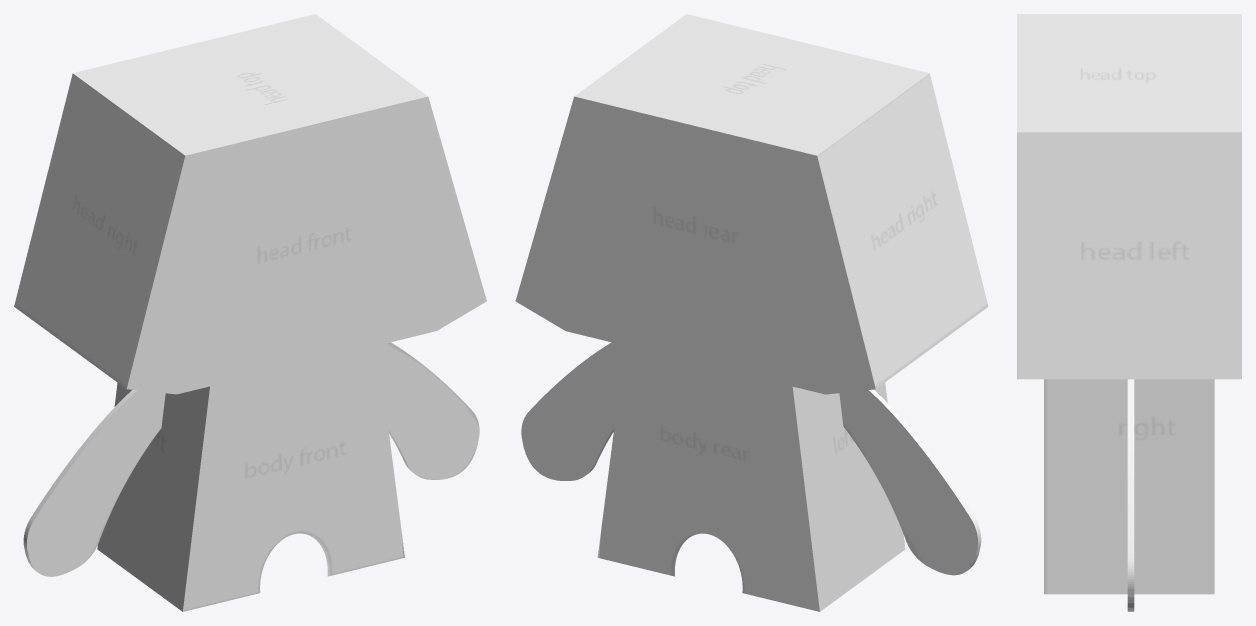
Rendered from Character.glb.
3 views of the same model, side by side, from view 1: azimuth 30°, elevation 25°; view 2: azimuth 150°, elevation 25°; view 3: azimuth 270°, elevation 25° (orthographic).
Visible parts, largest first — view 1: Curve.040, Curve.007, Curve.024, Curve.023; view 2: Curve.040, Curve.007, Curve.024, Curve.023; view 3: Curve.040, Curve.007, Curve.023.
Part boxes in pixels (<box>): Curve.040: <box>14,14,486,394</box>; Curve.007: <box>97,345,404,611</box>; Curve.024: <box>23,390,165,576</box>; Curve.023: <box>377,342,479,479</box>; Curve.040: <box>515,14,988,394</box>; Curve.007: <box>597,345,905,611</box>; Curve.024: <box>839,389,981,575</box>; Curve.023: <box>521,342,624,480</box>; Curve.040: <box>1017,14,1241,379</box>; Curve.007: <box>1044,379,1214,594</box>; Curve.023: <box>1127,379,1134,611</box>.
Size of the model in its own units: 3.12 by 3.07 by 1.34.
1 material, 1 textured.
